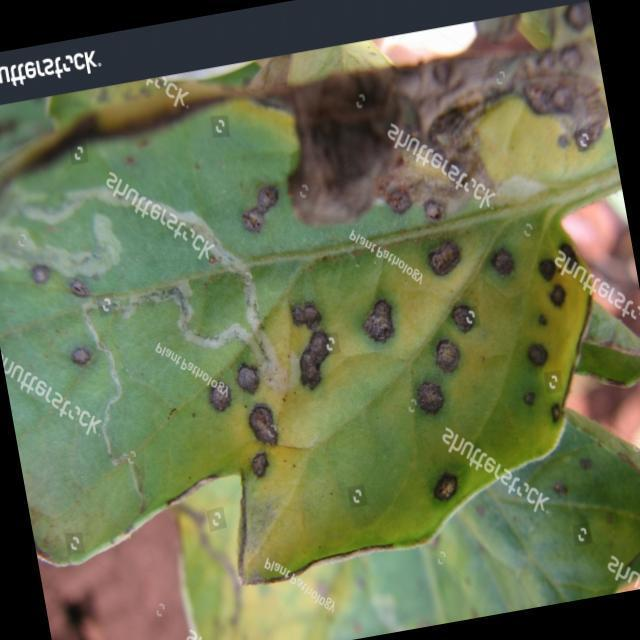Septoria: (182, 212, 604, 577), (16, 244, 108, 381), (226, 175, 291, 242)
